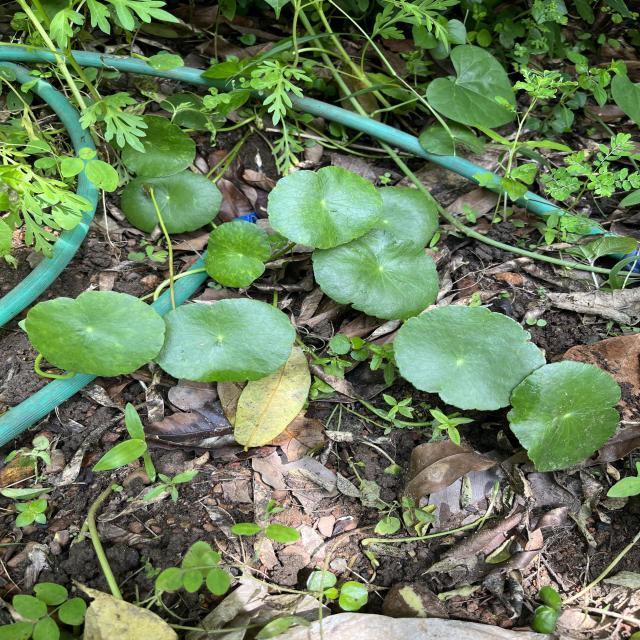Bacopa monnieri: (390, 304, 548, 412), (504, 359, 622, 473), (24, 290, 168, 380), (155, 296, 298, 384), (310, 228, 440, 320), (265, 164, 385, 250), (118, 166, 224, 235), (119, 111, 198, 179), (204, 218, 272, 288)
